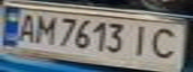1: (90, 19, 109, 53)
3: (106, 20, 130, 55)
6: (72, 17, 93, 51)
7: (54, 16, 78, 48)
A: (12, 11, 39, 44)
C: (145, 25, 187, 61)
I: (127, 23, 157, 57)
M: (30, 12, 57, 46)
